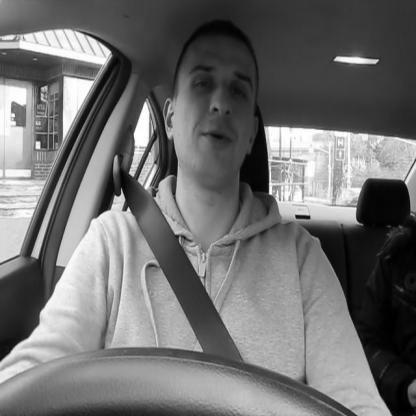seatbelt: (104, 16, 281, 374)
